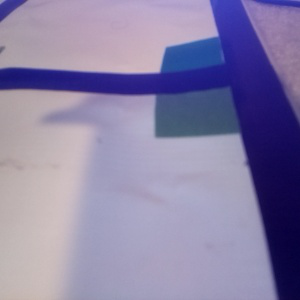bottom_left: (155, 72, 277, 137)
top_left: (161, 37, 259, 86)
